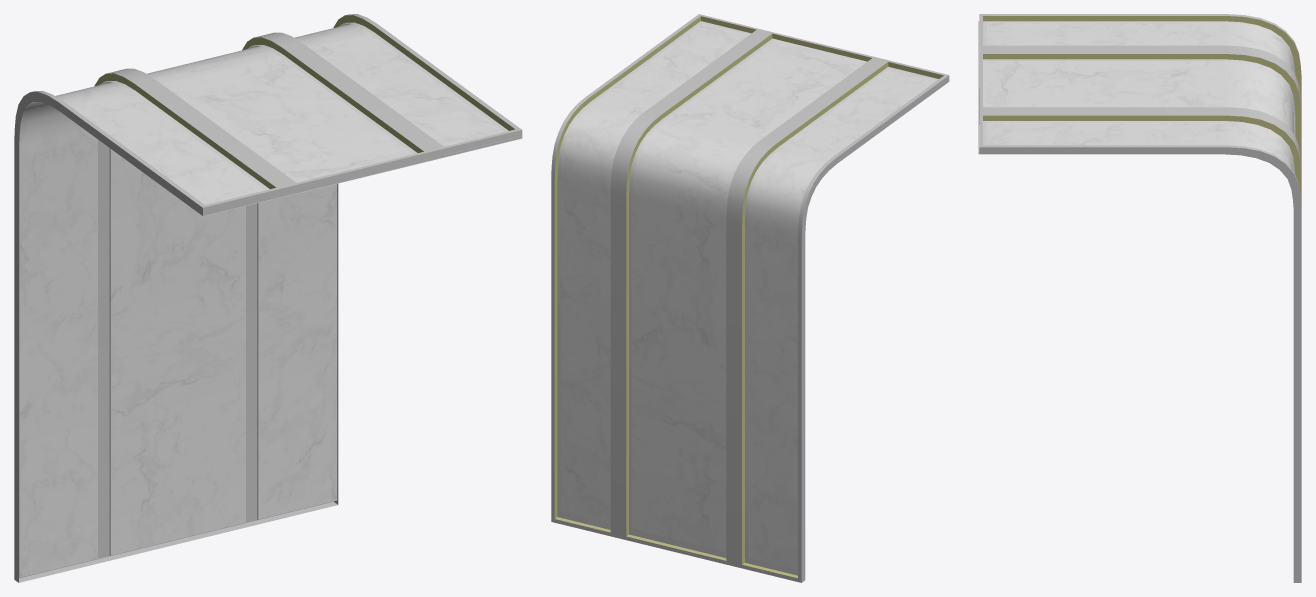
3 views of the same model, side by side, from view 1: azimuth 30°, elevation 25°; view 2: azimuth 150°, elevation 25°; view 3: azimuth 270°, elevation 25° (orthographic). The views are drawn at different scales.
Visible parts, largest first — view 1: M_W_010_d_8x12; view 2: M_W_010_d_8x12; view 3: M_W_010_d_8x12.
Boxes of the visible parts, x1,y1,x2,y2 form: M_W_010_d_8x12: (14, 14, 522, 582); M_W_010_d_8x12: (551, 14, 949, 582); M_W_010_d_8x12: (978, 14, 1301, 582).
Bounding box in the file's own units: 8 × 12.2 × 8.2.
